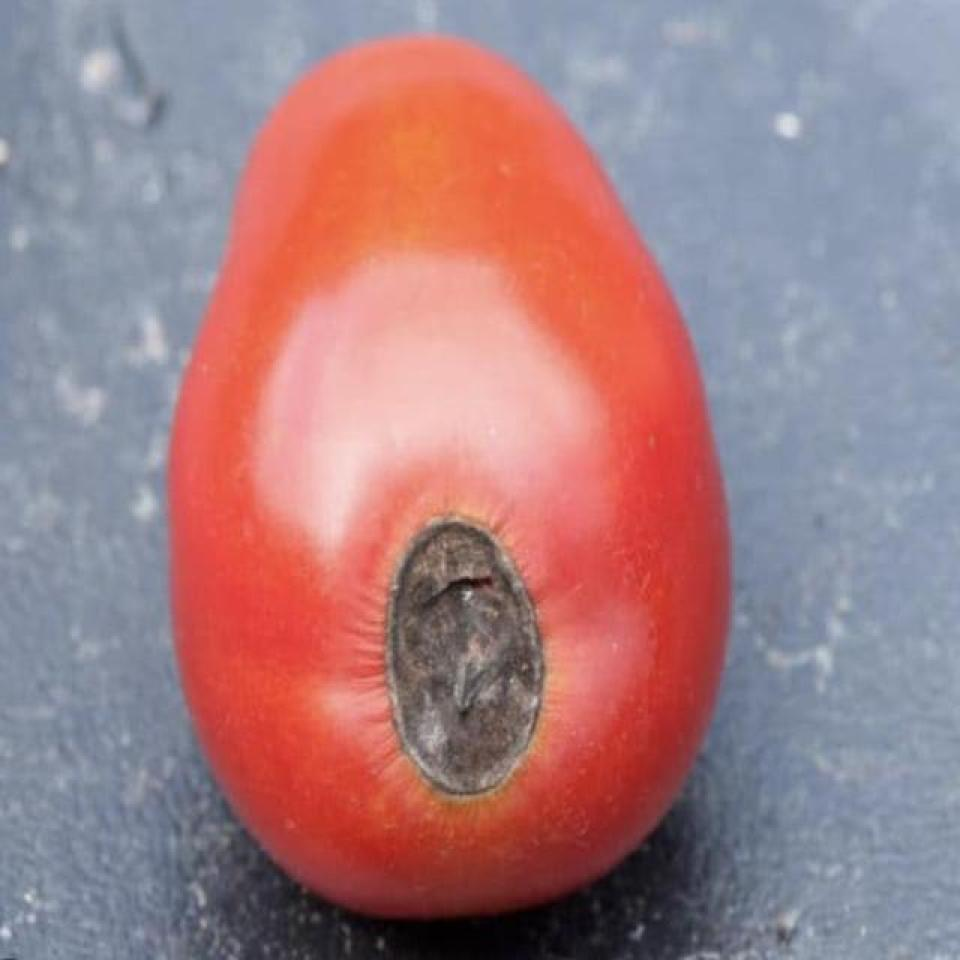Blossom_end_rot: (375, 501, 545, 798)
